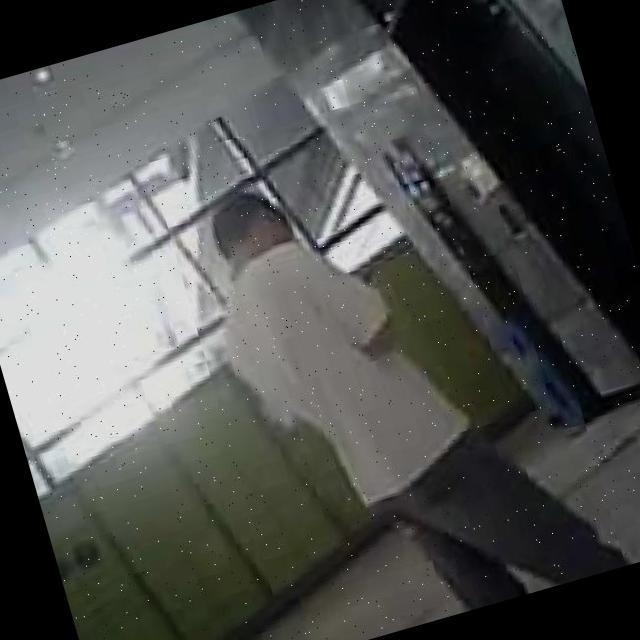person: (181, 114, 640, 640)
